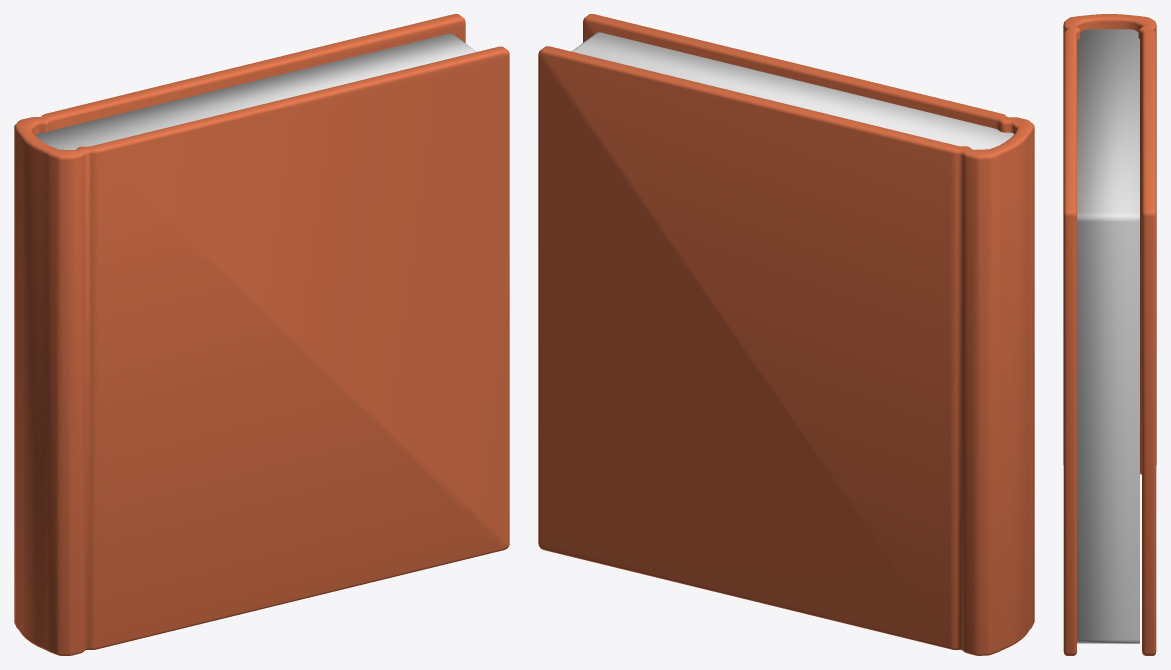
File: book_orange.fbx
3 renders of one model, left to right at view 1: azimuth 30°, elevation 25°; view 2: azimuth 150°, elevation 25°; view 3: azimuth 270°, elevation 25°, orthographic. The views are drawn at different scales.
Visible parts, largest first — view 1: Cube.012; view 2: Cube.012; view 3: Cube.012.
Boxes of the visible parts, x1,y1,x2,y2 form: Cube.012: (14,14,509,655); Cube.012: (538,14,1034,655); Cube.012: (1063,14,1156,655).
Size of the model in its own units: 313 by 327 by 61.89.
